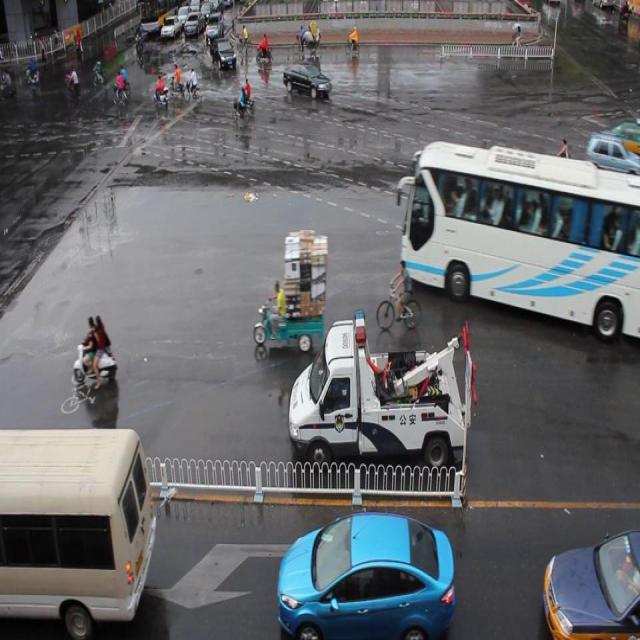bus: (289, 312, 476, 475)
car: (277, 511, 454, 640), (541, 530, 640, 640), (584, 131, 640, 178), (283, 59, 331, 100), (596, 120, 640, 156), (212, 37, 236, 71)
truck: (0, 425, 156, 640)
van: (394, 139, 640, 340)
